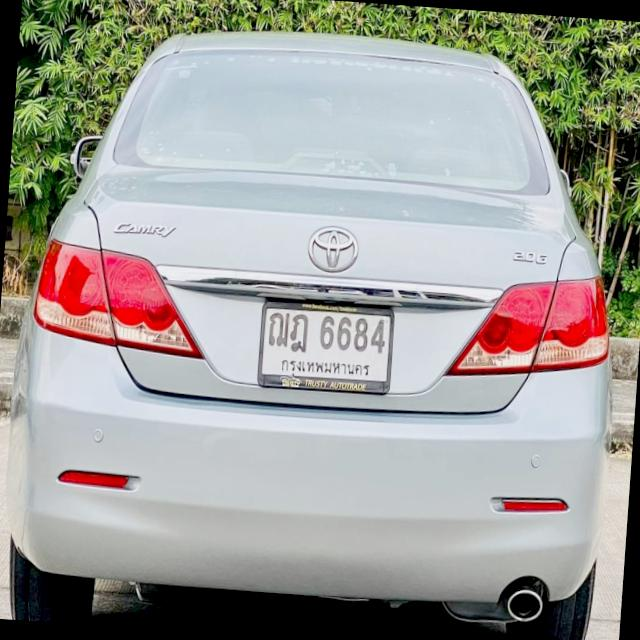license_plate: (255, 298, 397, 392)
